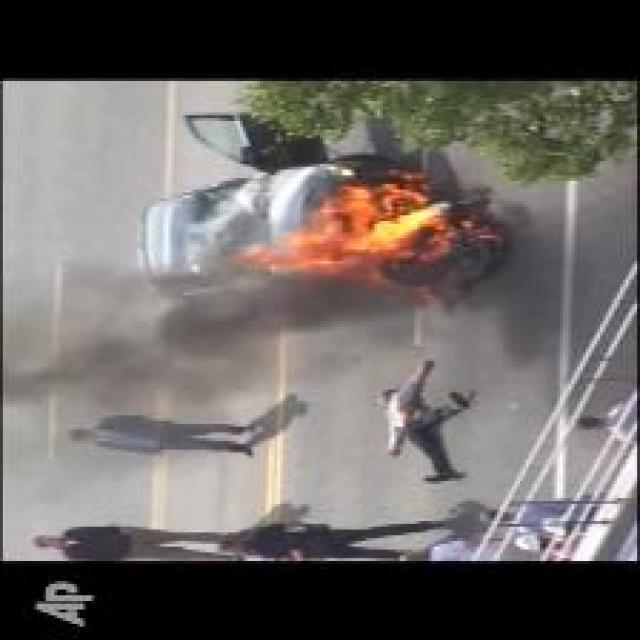Fire: (232, 180, 454, 283)
